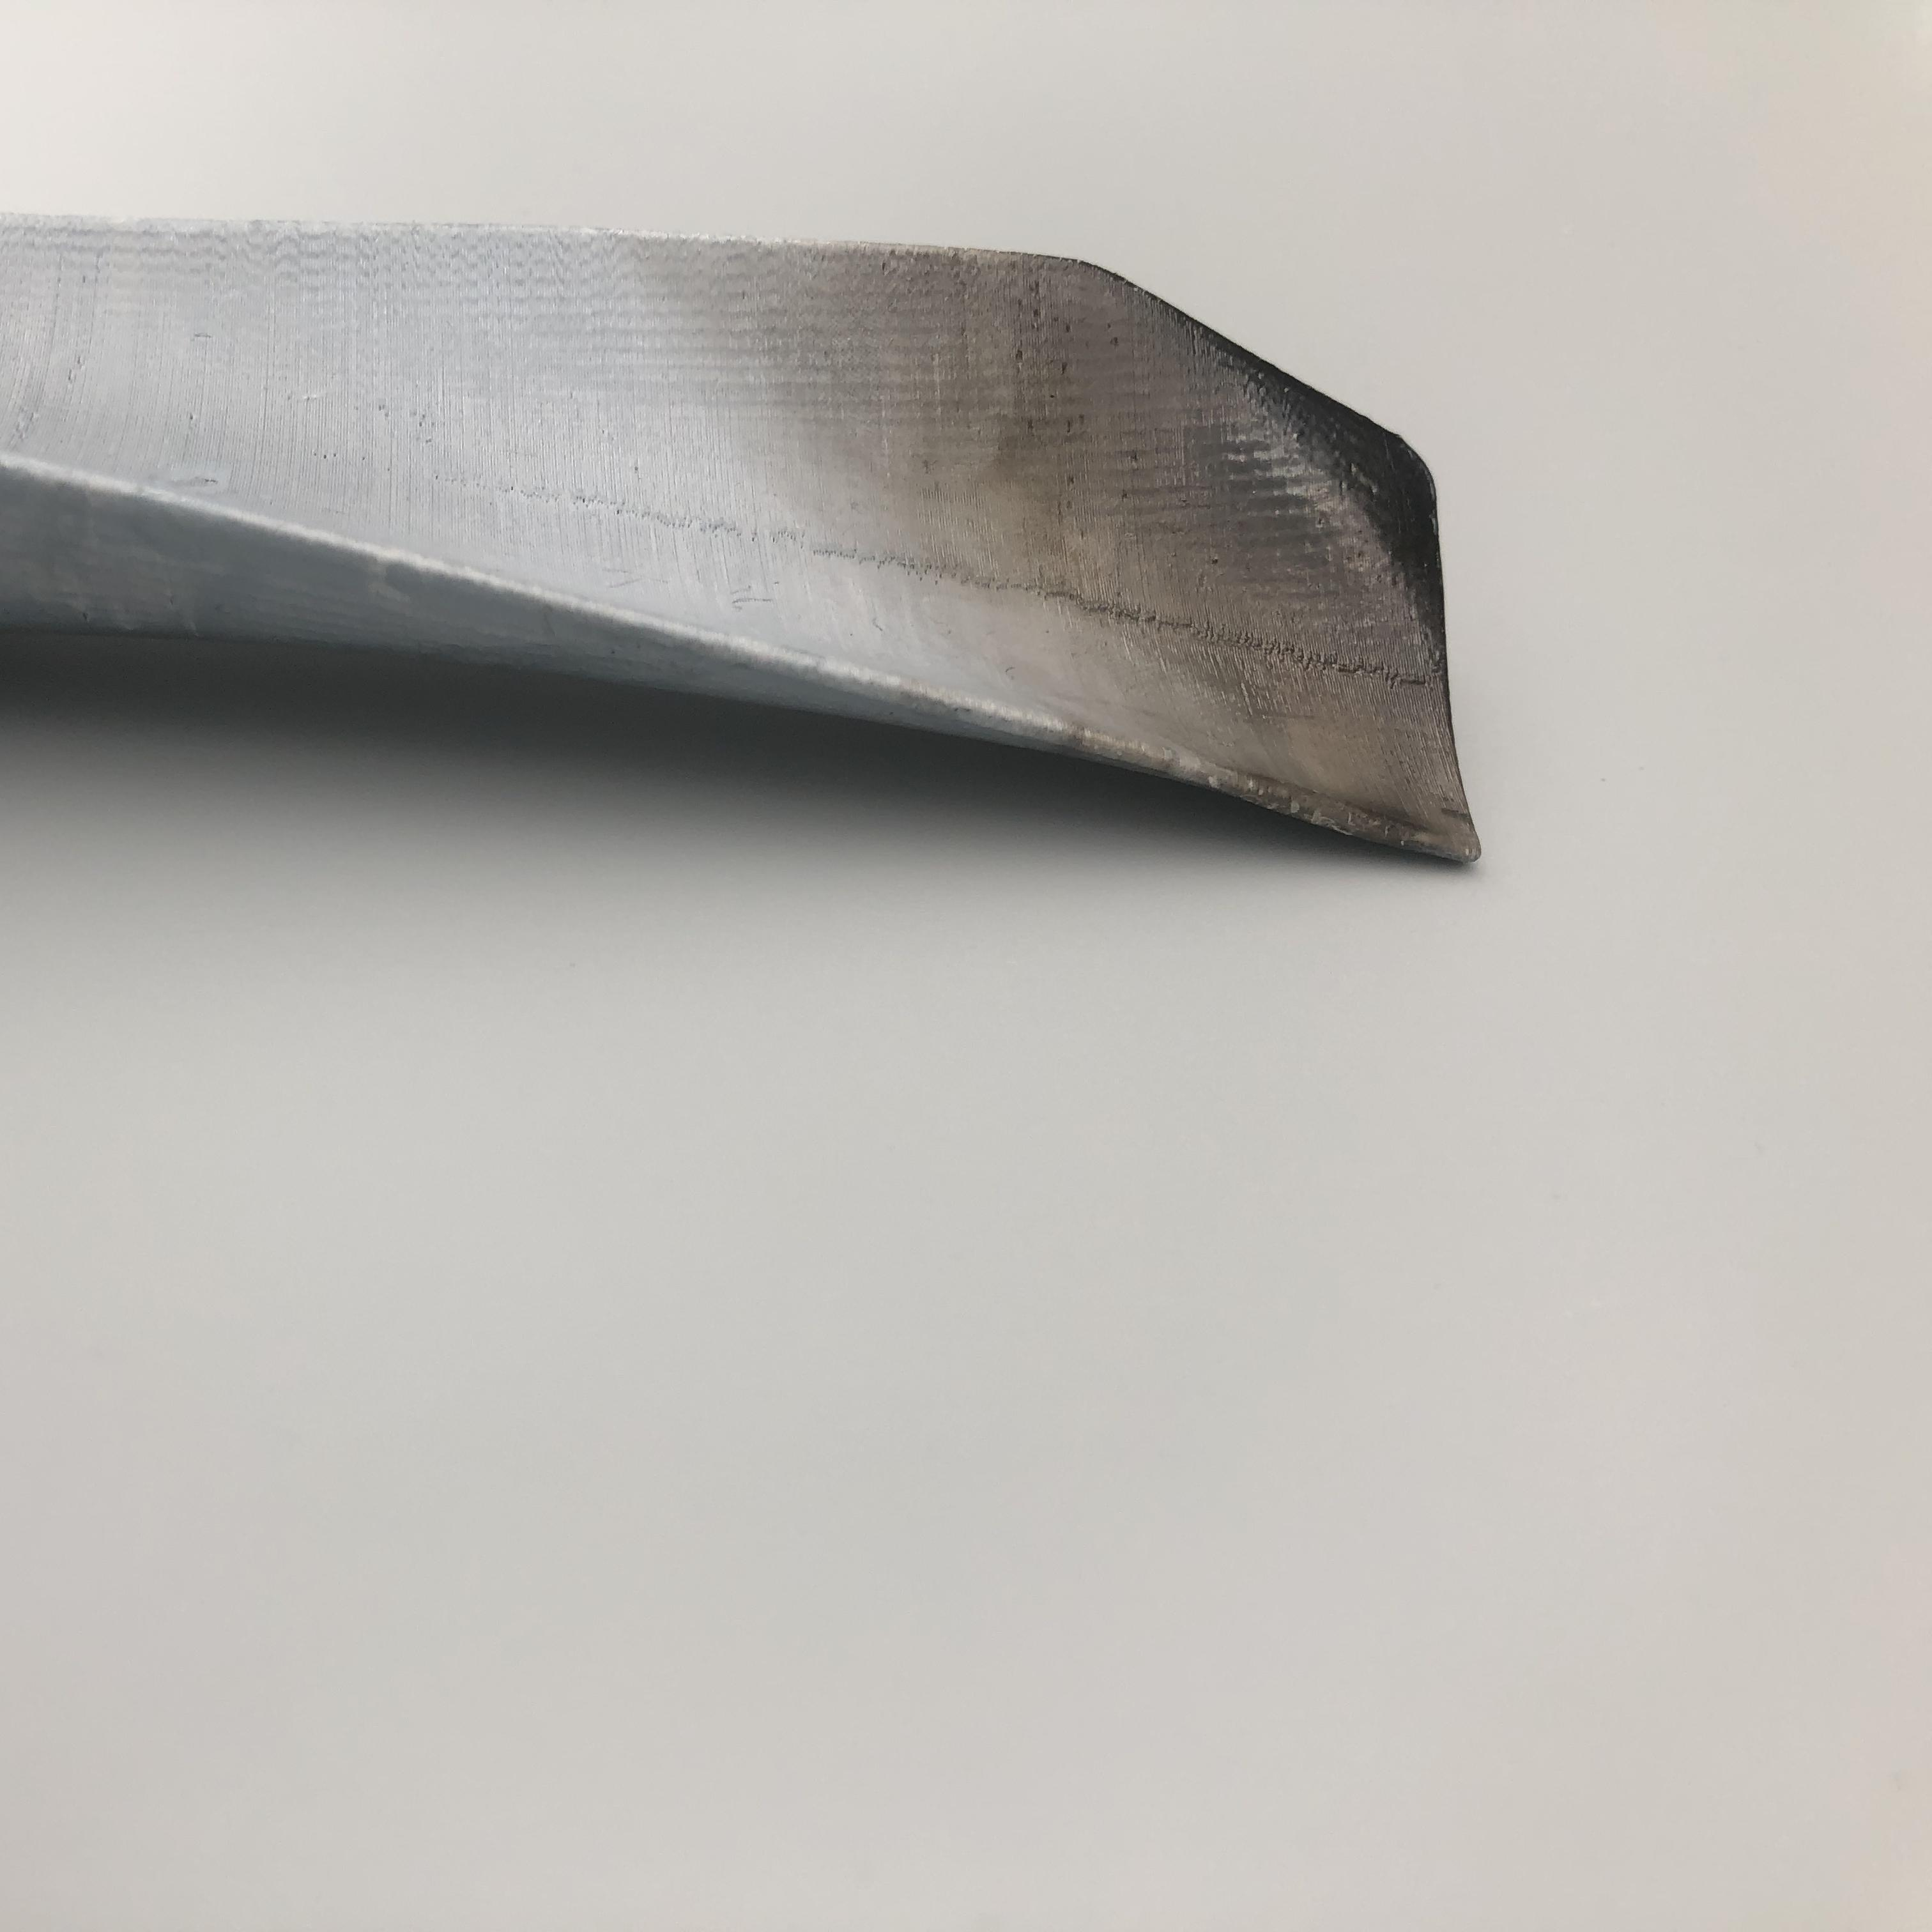ablation: (980, 269, 1486, 837)
